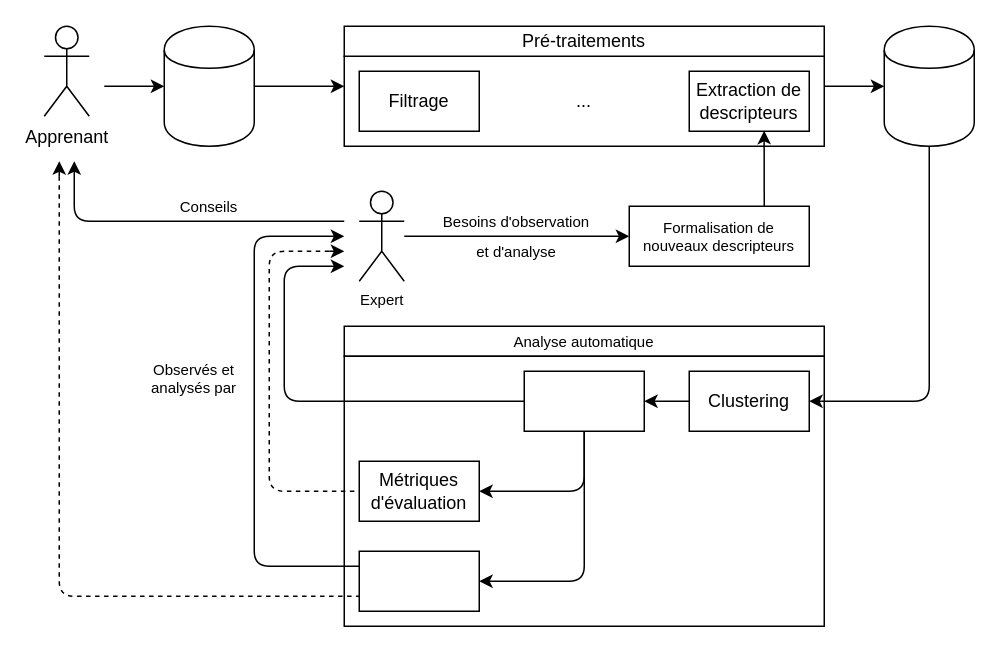
The diagram is 1001 pixels wide and 653 high, and some of its shapes have lost their labels. The shapes that lost their labels are listed below. From the top down, each one's centre as x and y in pixels, then its label:
point 208,85: Corpus de mouvements
point 928,85: Corpus de descripteurs
point 583,400: Clusters de données d'apprenant
point 418,580: Conseils donnés par le système
